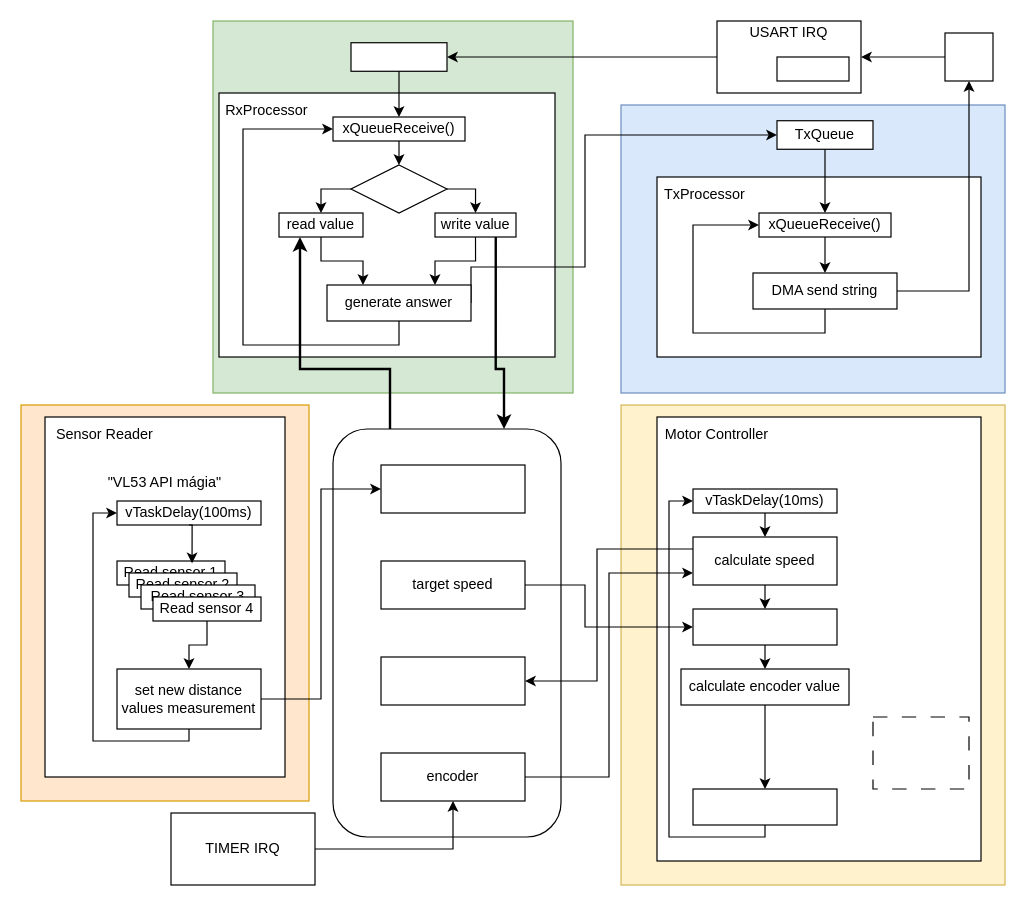
The diagram is 1026 pixels wide and 906 high, and some of its shapes have lost their labels. The centre of each missing label's shape, as x and y in pixels:
actual speed: (x=452, y=680)
distance: (x=452, y=488)
PID: (x=920, y=752)
R / W: (x=398, y=188)
read target speed: (x=764, y=626)
RxBuffer: (x=812, y=68)
RxQueue: (x=398, y=56)
set motor PWM: (x=764, y=806)
UART: (x=968, y=56)
